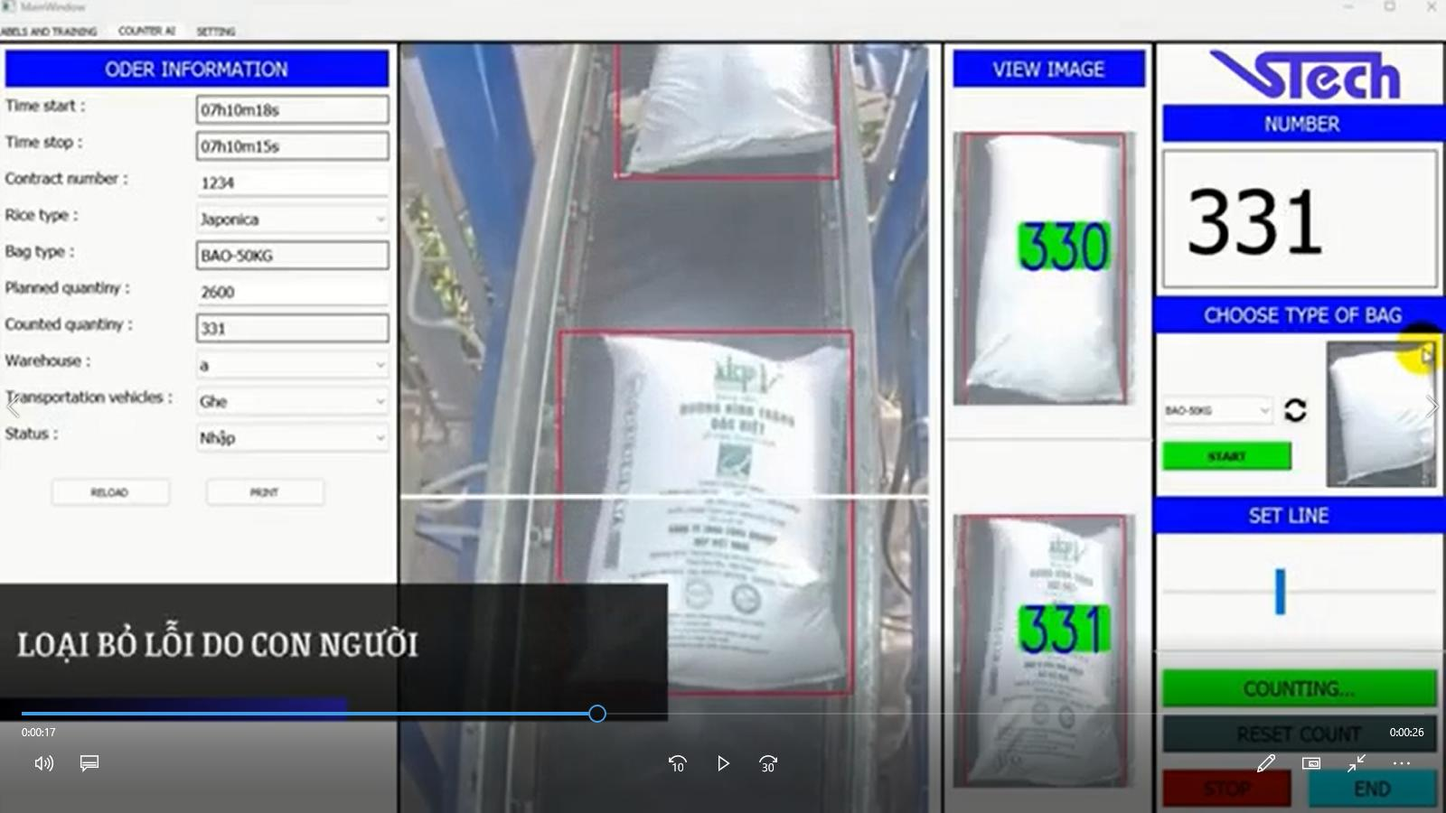rice-bag: (587, 336, 846, 691), (964, 135, 1127, 403), (968, 519, 1123, 785)
